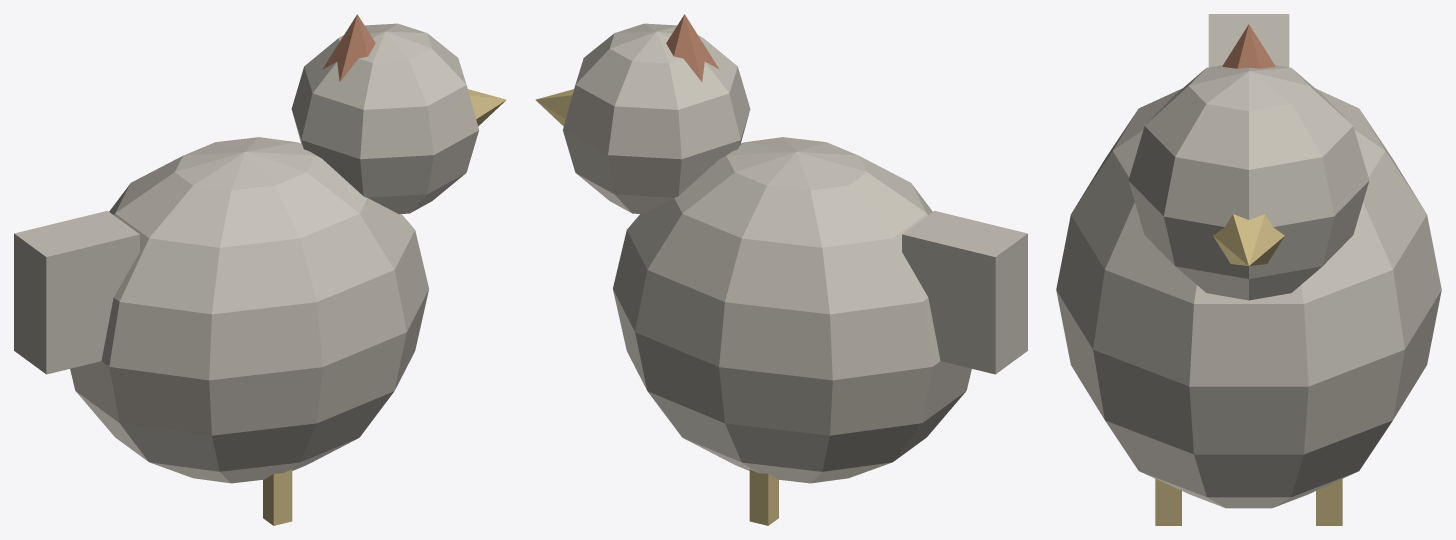
File: chicken.glb
3 views of the same model, side by side, from view 1: azimuth 30°, elevation 25°; view 2: azimuth 150°, elevation 25°; view 3: azimuth 270°, elevation 25° (orthographic). The views are drawn at different scales.
Visible parts, largest first — view 1: body; view 2: body; view 3: body.
Part boxes in pixels (x1,y1,x2,y2): body: [14, 14, 506, 525]; body: [535, 14, 1027, 525]; body: [1056, 14, 1441, 525].
Size of the model in its own units: 0.51 by 0.465 by 0.288.
